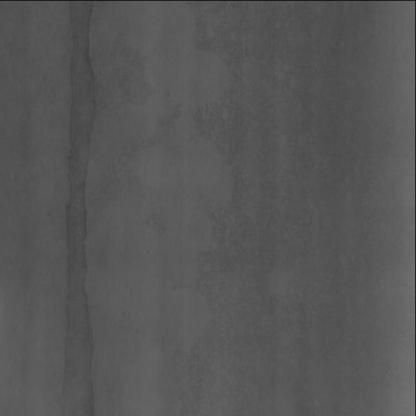water_spot: (54, 0, 121, 398)
